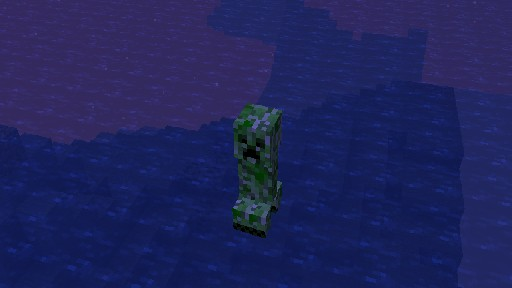creeper: (231, 102, 282, 238)
